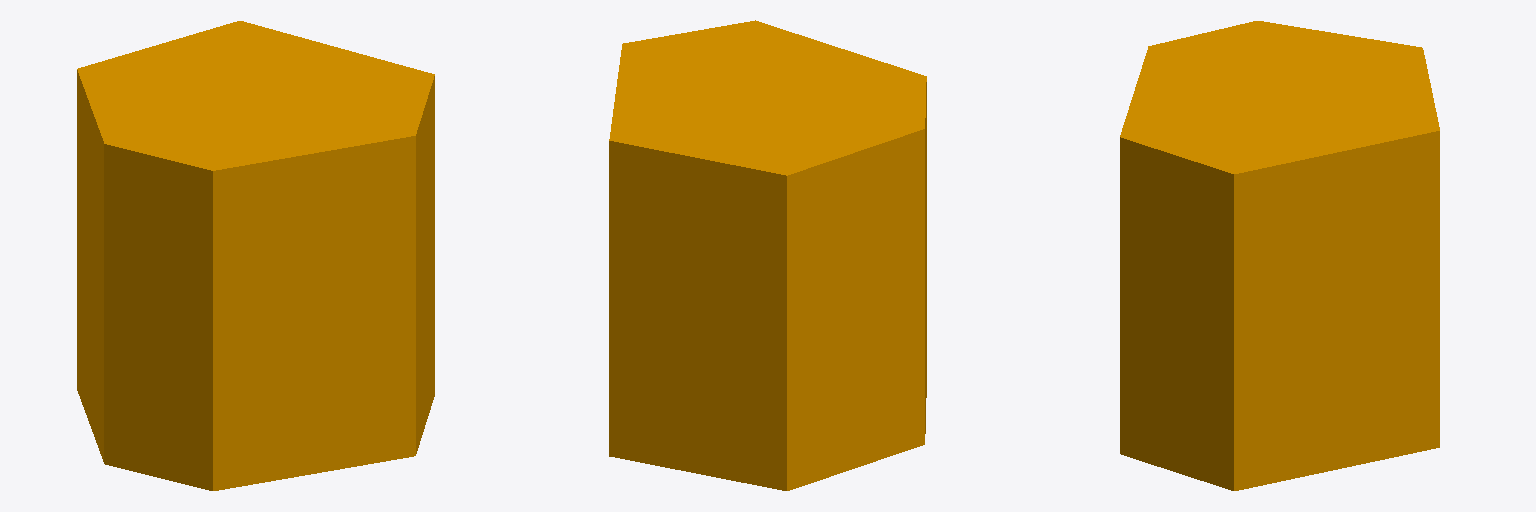
The robot description file, URDF, robot "object":
<?xml version="1.0"?>
<robot name="object">
  <link name="object">
    <visual>
      <origin xyz="0 0 0"/>
      <geometry>
        <mesh filename="meshes/generated/col_027.obj" scale="0.03 0.03 0.03"/>
      </geometry>
    </visual>
    <collision>
      <origin xyz="0 0 0"/>
      <geometry>
        <mesh filename="meshes/generated/col_027.obj" scale="0.03 0.03 0.03"/>
      </geometry>
    </collision>
    <inertial>
      <density value="1000.0"/>
    </inertial>
  </link>
</robot>

--- What the picture shows (computed from the rendered views, not written in the file) ---
Views: 3 orthographic renders of the robot side by side, from view 1: azimuth 30°, elevation 25°; view 2: azimuth 150°, elevation 25°; view 3: azimuth 270°, elevation 25°.
Robot: object — 1 links, 0 joints (none); root link object; default pose: every joint at zero.
Visible links, largest first — view 1: object; view 2: object; view 3: object.
Boxes of the visible links, x1,y1,x2,y2 form: object: (77,21,434,490); object: (609,20,926,490); object: (1120,21,1439,490).
Bounding box of the posed robot: 0.0625 × 0.055 × 0.06 m (x, y, z).
1 mesh visuals loaded from 1 distinct referenced files (1 OBJ).
